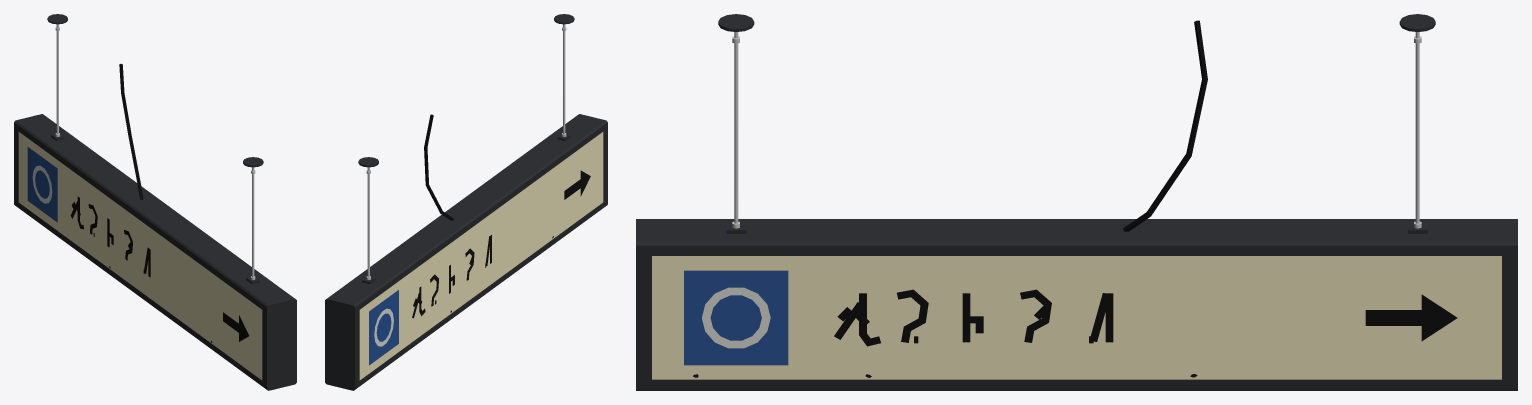
The model's file is sign_903_a.glb.
3 renders of one model, left to right at view 1: azimuth 30°, elevation 25°; view 2: azimuth 150°, elevation 25°; view 3: azimuth 270°, elevation 25°, orthographic. The views are drawn at different scales.
Parts seen in each view (by area): view 1: licht-1, gehaeuse, linie-1, kabel, stange-1, stange1, pfeil-1; view 2: licht-1, gehaeuse, linie-1, kabel, pfeil-1, stange-1, stange1; view 3: licht1, gehaeuse, linie1, pfeil1, kabel, stange-1, stange1.
Part boxes in pixels (x1,y1,x2,y2): licht-1: (18,132,262,380); gehaeuse: (14,114,296,390); linie-1: (27,147,57,222); kabel: (119,63,143,199); stange-1: (252,167,254,277); stange1: (56,24,58,134); pfeil-1: (223,312,249,341); licht-1: (359,132,603,380); gehaeuse: (325,114,607,390); linie-1: (369,290,398,365); kabel: (424,114,453,220); pfeil-1: (564,170,590,199); stange-1: (563,24,565,134); stange1: (367,167,369,277); licht1: (652,256,1501,379); gehaeuse: (636,219,1517,390); linie1: (684,270,788,365); pfeil1: (1365,294,1457,341); kabel: (1123,20,1207,231); stange-1: (734,32,738,223); stange1: (1415,32,1419,223).
Bounding box in the file's own units: 0.1538 × 0.9865 × 2.2.
